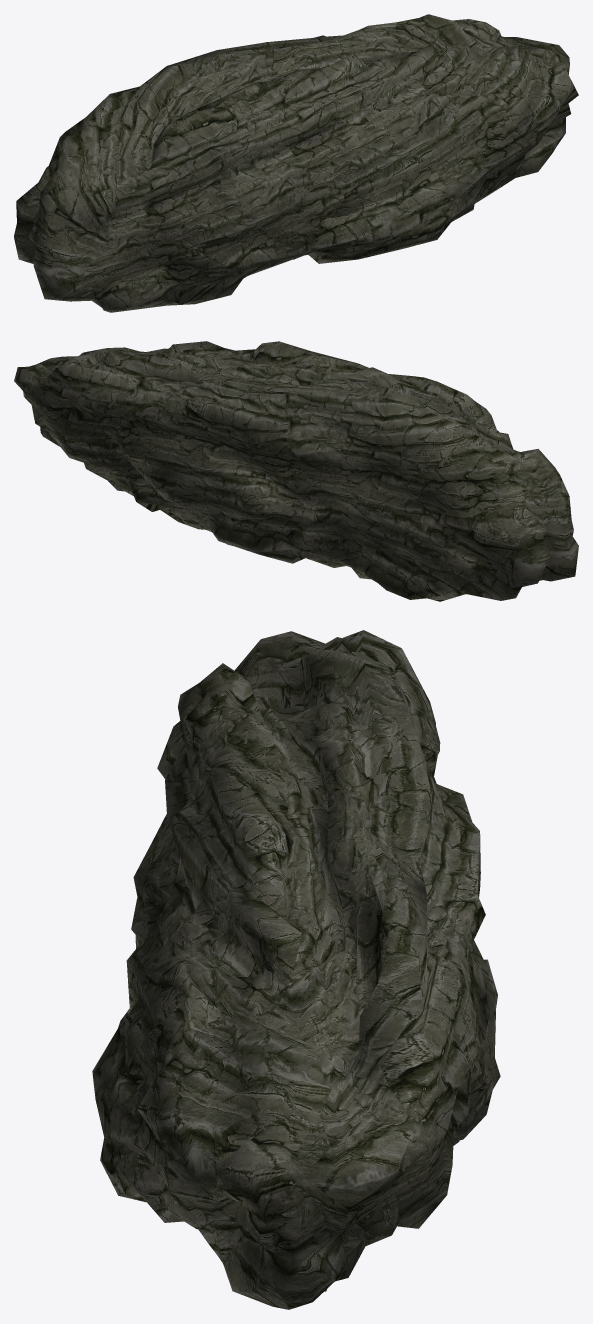
File: TI_Cliff_02_k.fbx
3 views of the same model, one above another, from view 1: azimuth 30°, elevation 25°; view 2: azimuth 150°, elevation 25°; view 3: azimuth 270°, elevation 25° (orthographic). The views are drawn at different scales.
Visible parts, largest first — view 1: TI_Cliff_02_k; view 2: TI_Cliff_02_k; view 3: TI_Cliff_02_k.
Part boxes in pixels (x1=…): TI_Cliff_02_k: x1=14, y1=14, x2=578, y2=312; TI_Cliff_02_k: x1=14, y1=341, x2=578, y2=601; TI_Cliff_02_k: x1=92, y1=630, x2=500, y2=1309.
Size of the model in its own units: 21.85 by 8.13 by 7.19.
